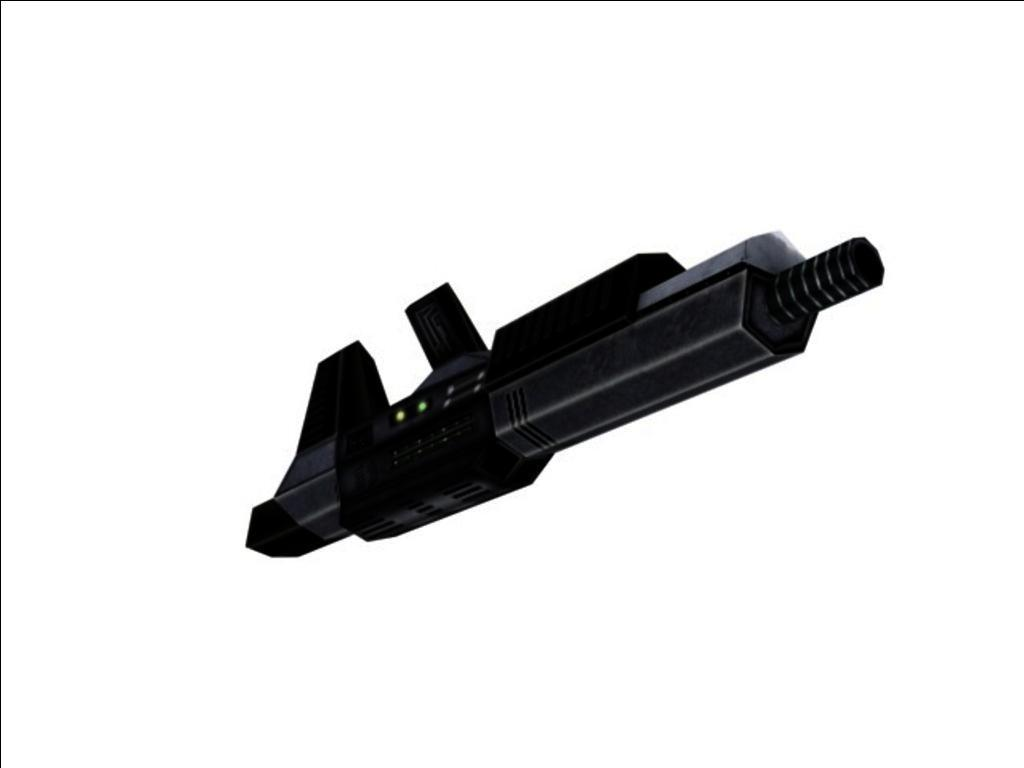gun: (246, 236, 890, 564)
